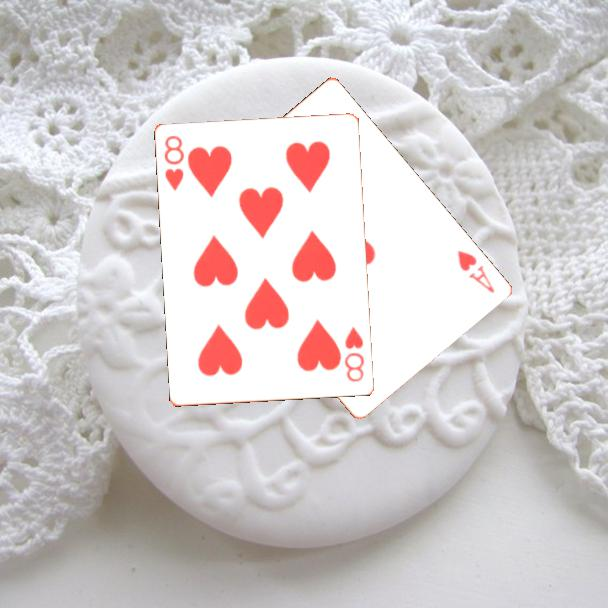h01: (453, 246, 497, 296)
h08: (161, 132, 188, 194), (341, 323, 367, 385)
